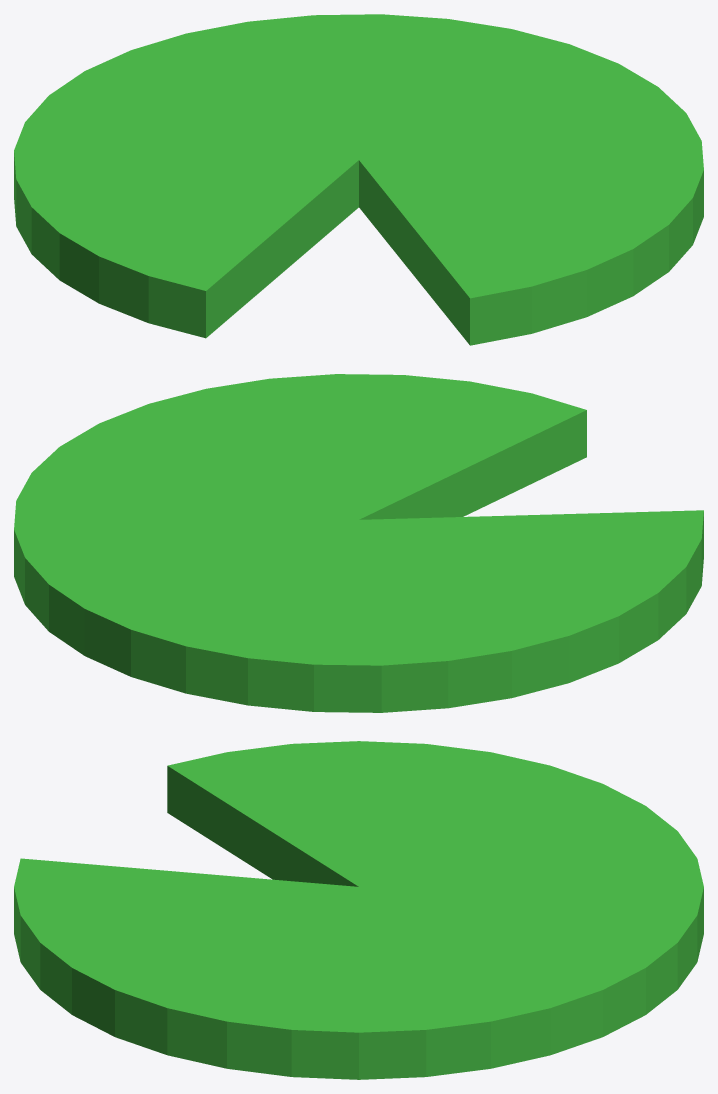
Rendered from lilypad.glb.
3 views of the same model, one above another, from view 1: azimuth 30°, elevation 25°; view 2: azimuth 150°, elevation 25°; view 3: azimuth 270°, elevation 25° (orthographic).
Parts seen in each view (by area): view 1: lilypad; view 2: lilypad; view 3: lilypad.
Part boxes in pixels (<box>): lilypad: <box>14,14,703,345</box>; lilypad: <box>14,374,703,712</box>; lilypad: <box>14,741,703,1079</box>.
Bounding box in the file's own units: 0.309 × 0.0233 × 0.309.
